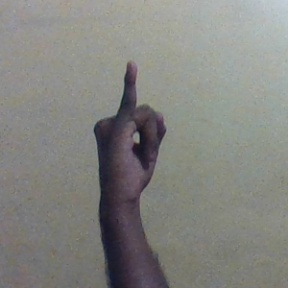I: (94, 60, 167, 199)
